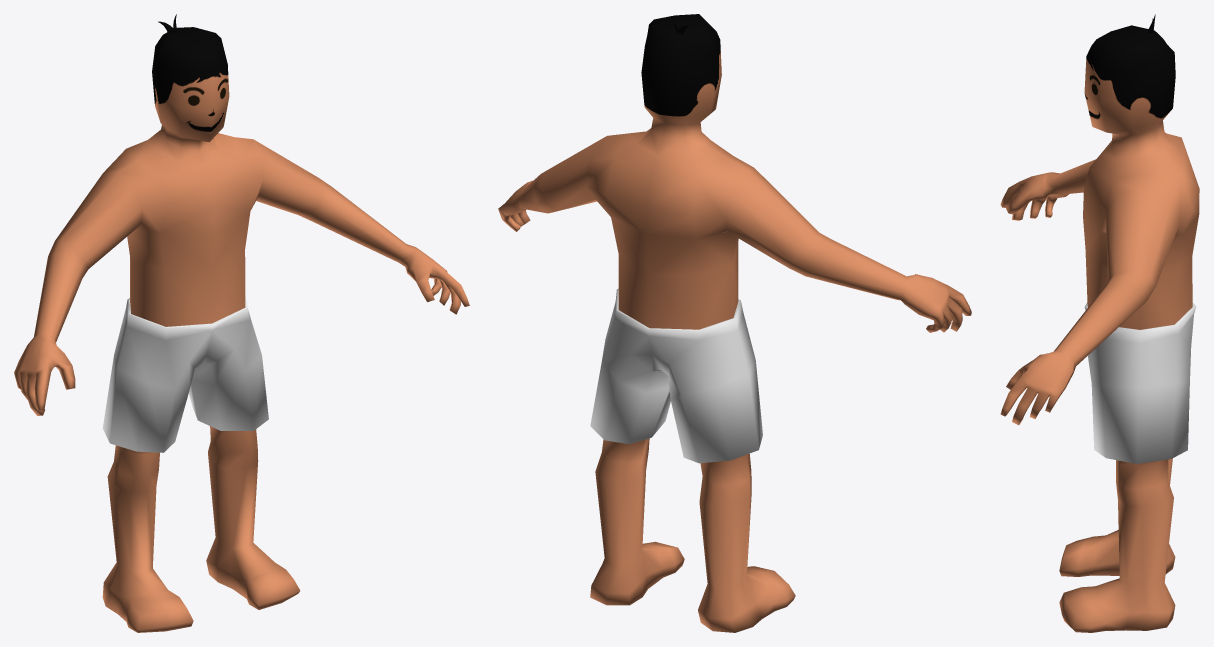
Rendered from character_smooth.fbx.
The picture shows the model from 3 angles, left to right: view 1: azimuth 30°, elevation 25°; view 2: azimuth 150°, elevation 25°; view 3: azimuth 270°, elevation 25°; orthographic projection. The views are drawn at different scales.
Visible parts, largest first — view 1: character, celana; view 2: character, celana; view 3: character, celana.
Part boxes in pixels (x1=…): character: x1=14, y1=14, x2=469, y2=632; celana: x1=102, y1=297, x2=268, y2=452; character: x1=498, y1=14, x2=971, y2=632; celana: x1=590, y1=288, x2=762, y2=463; character: x1=1000, y1=14, x2=1199, y2=632; celana: x1=1084, y1=303, x2=1196, y2=463.
Bounding box in the file's own units: 264 × 334 × 105.
